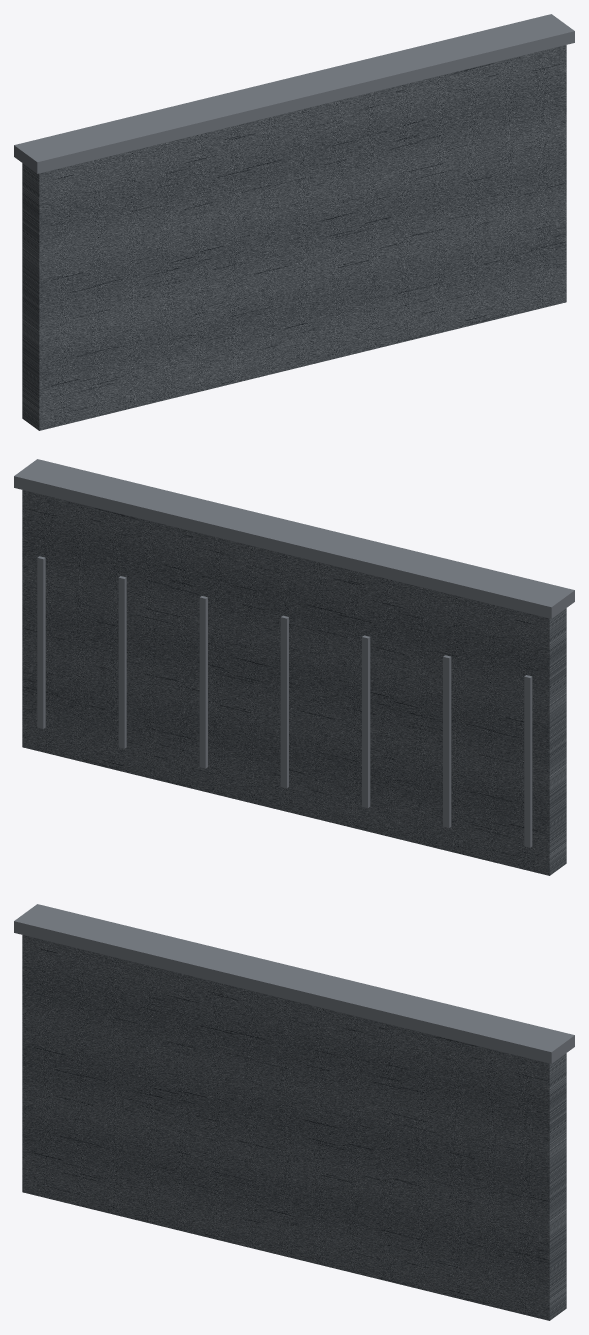
Rendered from concrete_wall.glb.
The picture shows the model from 3 angles, top to bottom: view 1: azimuth 30°, elevation 25°; view 2: azimuth 150°, elevation 25°; view 3: azimuth 330°, elevation 25°; orthographic projection.
Visible parts, largest first — view 1: concrete_segment_1, top_cap_9; view 2: concrete_segment_1, top_cap_9, reinforcing_brick_2, reinforcing_brick_3, reinforcing_brick_8, reinforcing_brick_4, reinforcing_brick_5, reinforcing_brick_6, reinforcing_brick_7; view 3: concrete_segment_1, top_cap_9.
Part boxes in pixels (x1,y1,x2,y2): concrete_segment_1: [22, 45, 566, 430]; top_cap_9: [14, 14, 574, 173]; concrete_segment_1: [22, 490, 566, 875]; top_cap_9: [14, 459, 574, 618]; reinforcing_brick_2: [524, 675, 532, 847]; reinforcing_brick_3: [443, 655, 451, 827]; reinforcing_brick_8: [37, 556, 45, 728]; reinforcing_brick_4: [362, 635, 370, 807]; reinforcing_brick_5: [280, 615, 288, 788]; reinforcing_brick_6: [199, 596, 207, 768]; reinforcing_brick_7: [118, 576, 126, 748]; concrete_segment_1: [22, 935, 566, 1320]; top_cap_9: [14, 904, 574, 1063].
Bounding box in the file's own units: 5.3 × 2.56 × 0.4.
Materials: 2 (1 with a texture image).
